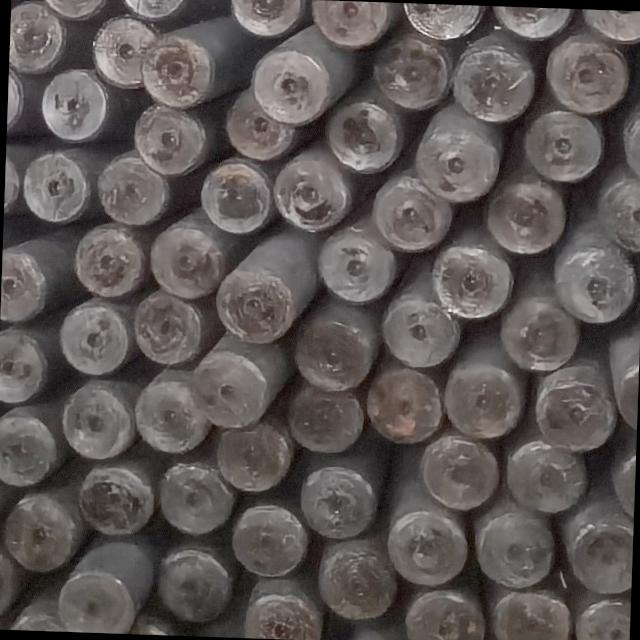tool: (250, 23, 353, 125), (416, 101, 502, 200), (451, 31, 536, 124), (532, 356, 614, 452), (555, 494, 632, 595), (472, 501, 558, 590), (441, 344, 523, 436), (358, 34, 454, 112), (478, 172, 568, 255), (150, 208, 230, 300), (268, 148, 352, 234), (498, 286, 582, 372), (0, 229, 72, 326), (314, 97, 402, 176), (544, 29, 628, 111), (414, 433, 503, 510), (369, 172, 454, 252), (188, 344, 272, 424), (502, 438, 589, 514), (314, 224, 396, 304), (316, 537, 396, 619), (186, 156, 270, 234), (387, 509, 468, 586), (382, 288, 462, 365), (366, 366, 443, 445), (432, 246, 514, 320), (522, 108, 602, 182), (160, 459, 237, 535), (216, 414, 294, 489), (215, 272, 297, 343), (96, 150, 171, 226), (63, 384, 138, 460), (128, 289, 202, 366), (56, 299, 130, 376), (300, 462, 376, 536), (153, 548, 230, 621), (231, 507, 308, 579), (88, 9, 160, 85), (41, 65, 112, 142), (20, 148, 91, 224), (0, 496, 77, 566), (295, 318, 371, 387), (291, 386, 368, 452), (76, 467, 153, 532), (0, 400, 60, 483), (136, 383, 208, 450), (134, 105, 206, 171), (142, 38, 209, 106), (75, 230, 146, 294), (8, 0, 66, 75), (0, 324, 55, 403), (61, 574, 133, 634), (590, 167, 640, 253), (226, 99, 292, 161), (400, 589, 480, 640), (310, 0, 396, 46), (241, 591, 319, 640), (488, 593, 569, 640), (396, 2, 487, 40), (492, 6, 582, 40), (228, 0, 309, 36), (572, 595, 630, 640), (615, 97, 640, 178), (581, 9, 640, 41), (6, 58, 27, 138), (0, 540, 17, 628), (612, 454, 636, 512), (42, 0, 111, 20), (113, 0, 187, 18), (618, 362, 638, 427)
tool_b: (550, 246, 640, 326)
